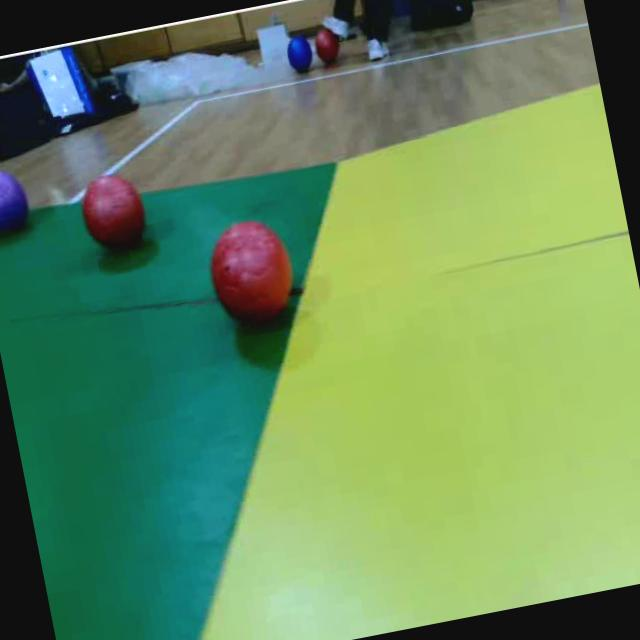blue_ball: (280, 32, 320, 78)
purple_ball: (0, 158, 39, 245)
red_ball: (200, 206, 312, 345), (74, 164, 150, 263), (308, 22, 348, 76)
